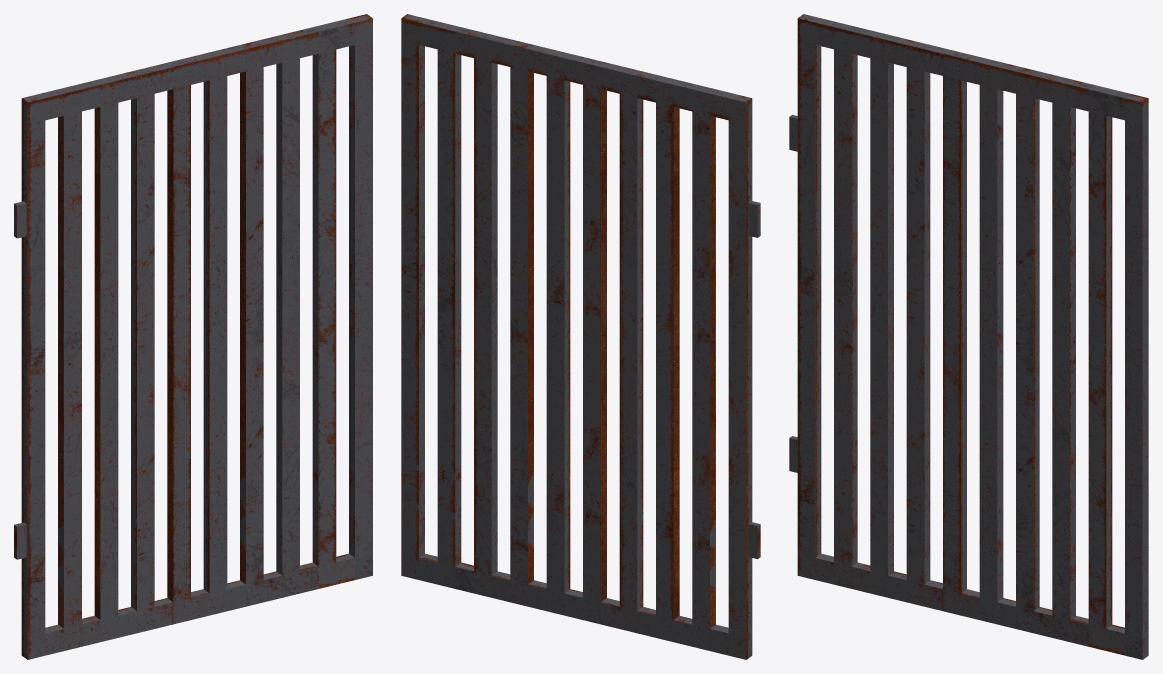
File: Muralla.fbx
3 renders of one model, left to right at view 1: azimuth 30°, elevation 25°; view 2: azimuth 150°, elevation 25°; view 3: azimuth 330°, elevation 25°, orthographic.
Parts seen in each view (by area): view 1: Cube.001; view 2: Cube.001; view 3: Cube.001.
Part boxes in pixels (x1,y1,x2,y2): Cube.001: [14, 14, 372, 659]; Cube.001: [401, 14, 760, 659]; Cube.001: [789, 14, 1148, 659].
Bounding box in the file's own units: 200 × 300 × 5.79.
Materials: 1 (1 with a texture image).
